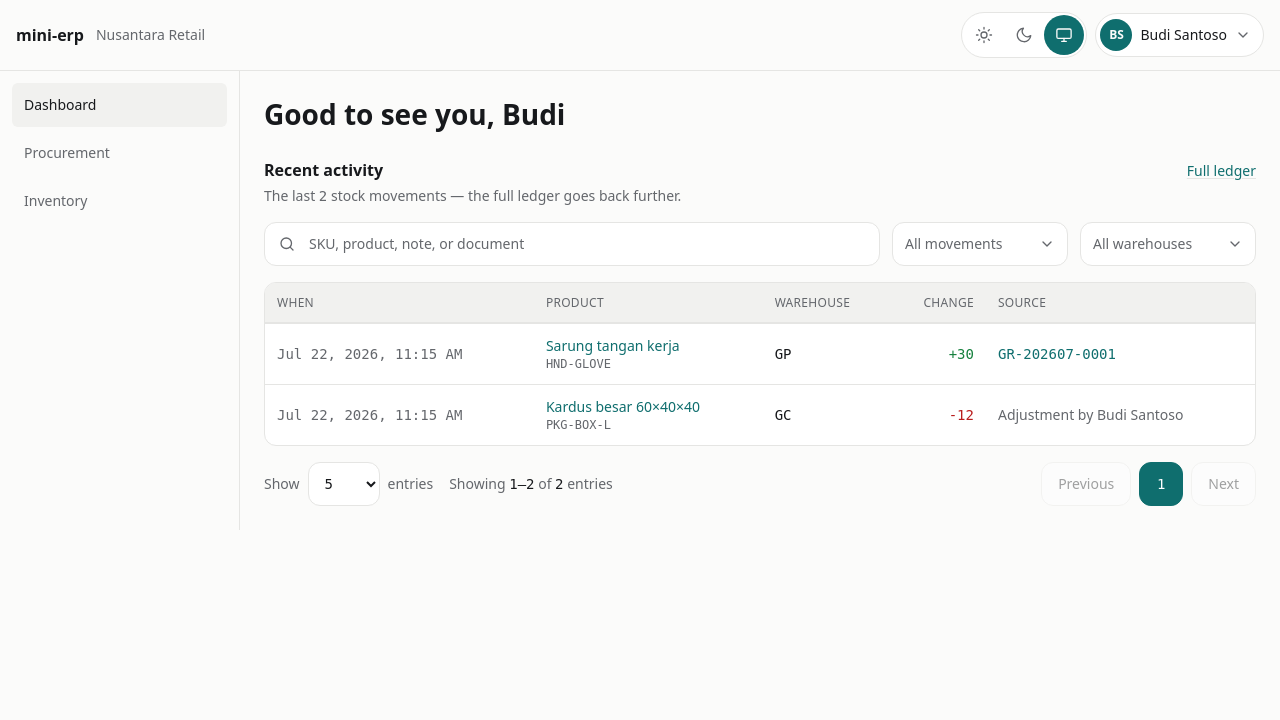
Scenario: FE32 — the activity table, and the one way it could mislead › points at the full ledger when the filters find nothing here
Expected: the link "mini-erp" is shown, left=16, top=23, right=84, bottom=47
Expected: the table is shown, left=265, top=283, right=1255, bottom=445
Type "zzz" into the search field named "Search recent activity" at (572, 244), box left=264, top=222, right=880, bottom=266
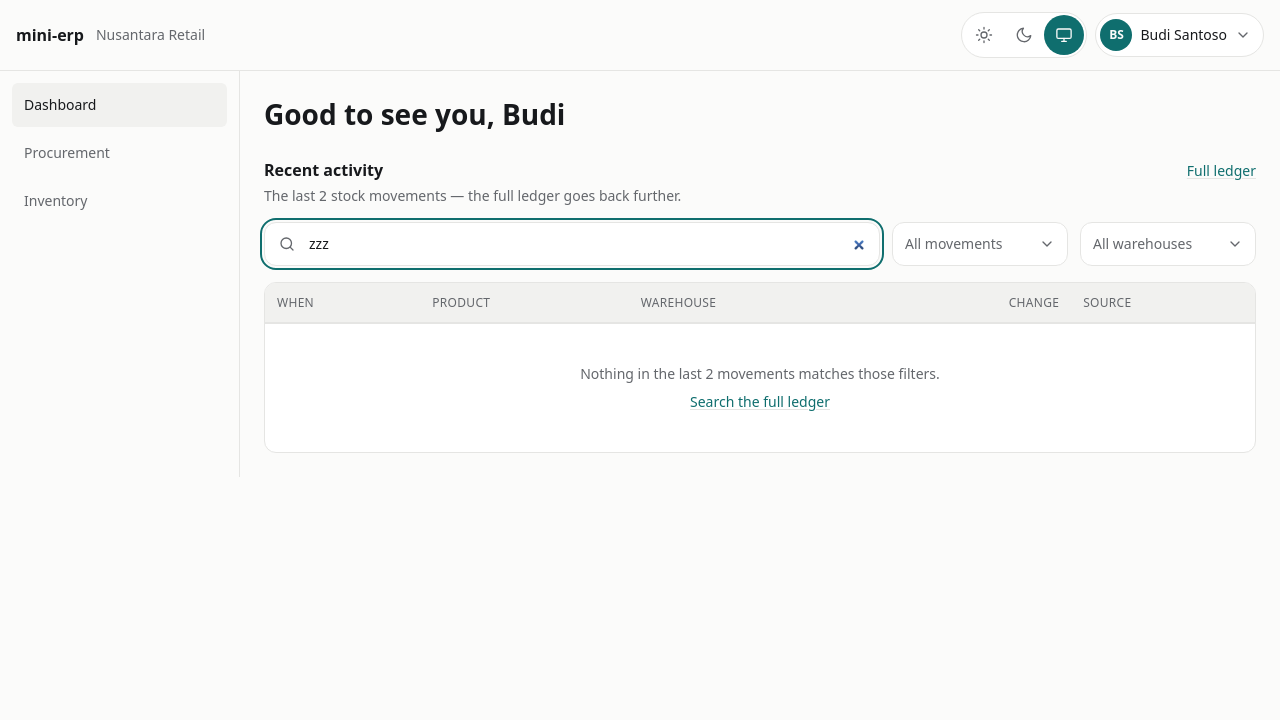
Expected: the text "Nothing in the last 2 movements matches those filters." is shown, left=580, top=364, right=940, bottom=383
